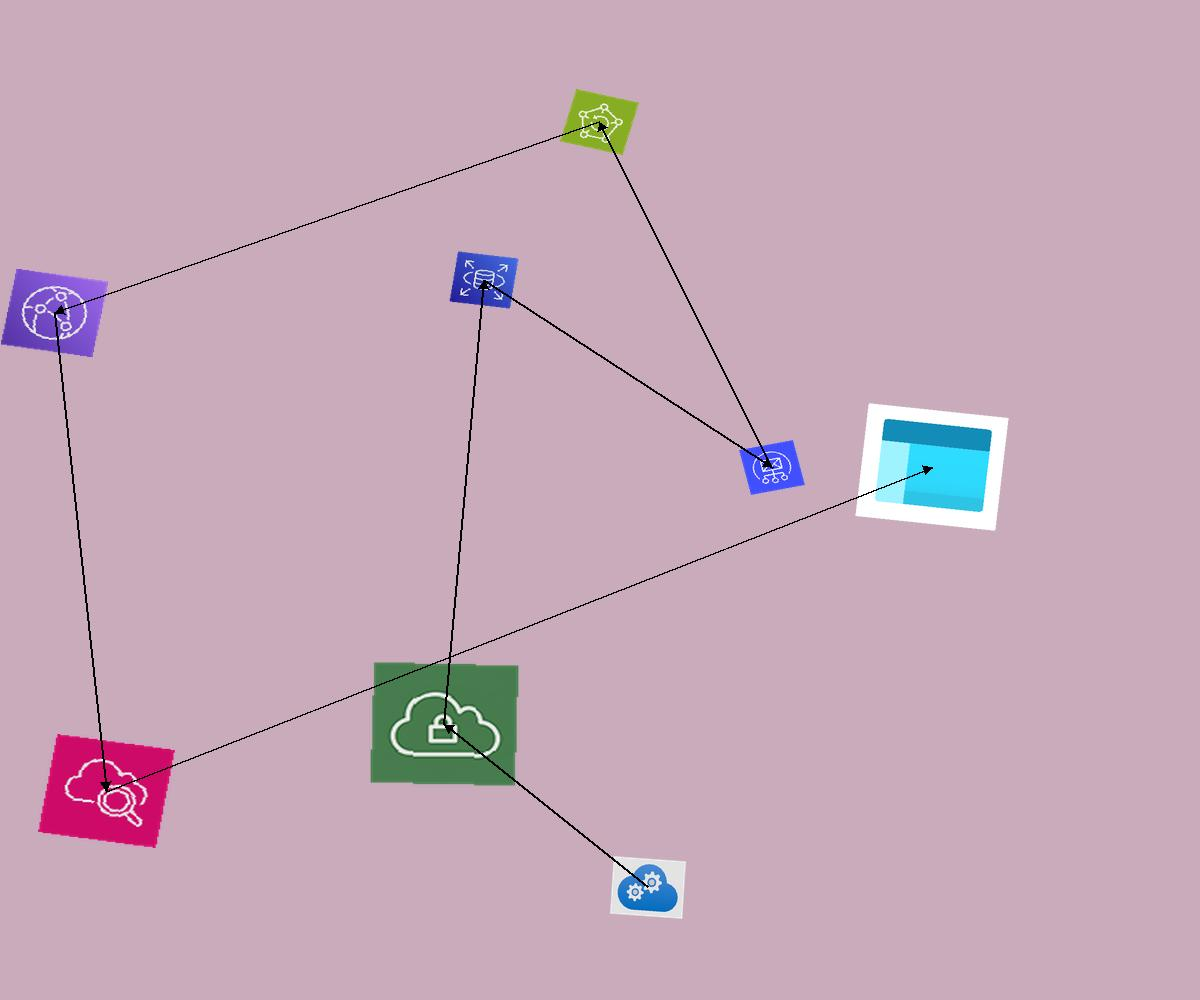AWS-Backup: (560, 89, 639, 155)
AWS-CloudFront: (0, 268, 109, 358)
AWS-CloudWatch: (38, 734, 175, 848)
AWS-Private_vpc: (369, 661, 520, 787)
AWS-RDS: (449, 251, 519, 309)
AWS-Simple-Email-Service: (739, 440, 805, 495)
Azure_cloud_services: (610, 856, 686, 919)
Azure_management-portal: (855, 403, 1009, 531)
